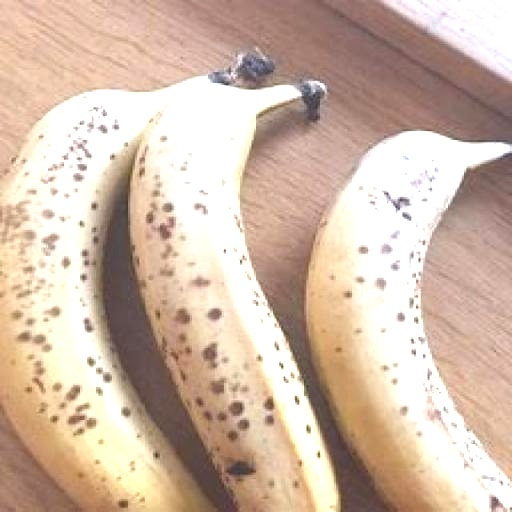fruit: (149, 139, 465, 507), (67, 112, 201, 376), (104, 35, 318, 112), (0, 190, 7, 512)
